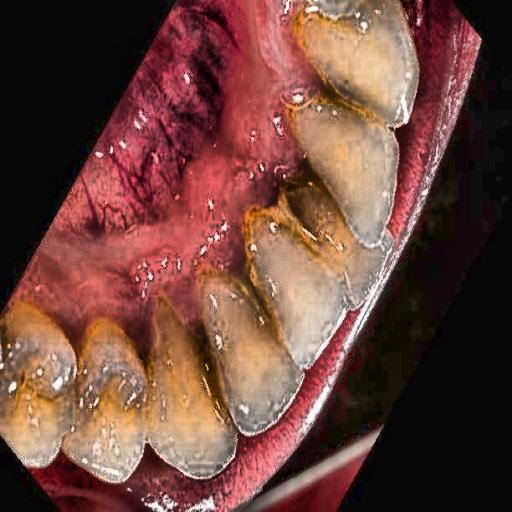Calculus: (58, 256, 345, 376)
